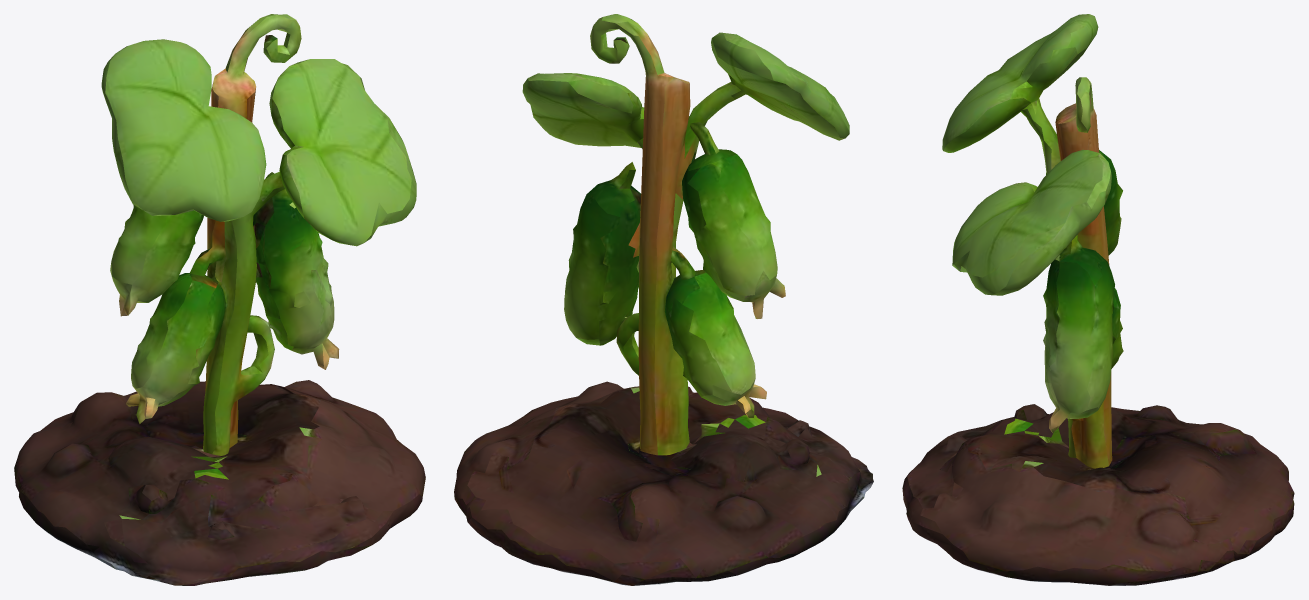
Rendered from crop_cucumber.glb.
The picture shows the model from 3 angles, left to right: view 1: azimuth 30°, elevation 25°; view 2: azimuth 150°, elevation 25°; view 3: azimuth 270°, elevation 25°; orthographic projection. The views are drawn at different scales.
Visible parts, largest first — view 1: crop_cucumber_s15; view 2: crop_cucumber_s15; view 3: crop_cucumber_s15.
Boxes of the visible parts, x1,y1,x2,y2 form: crop_cucumber_s15: (14,14,425,585); crop_cucumber_s15: (454,14,873,585); crop_cucumber_s15: (902,14,1294,585).
Size of the model in its own units: 0.7715 by 1 by 0.7811.
1 material, 1 textured.
